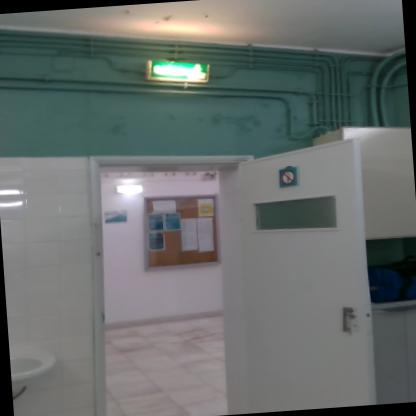open: (69, 129, 381, 415)
